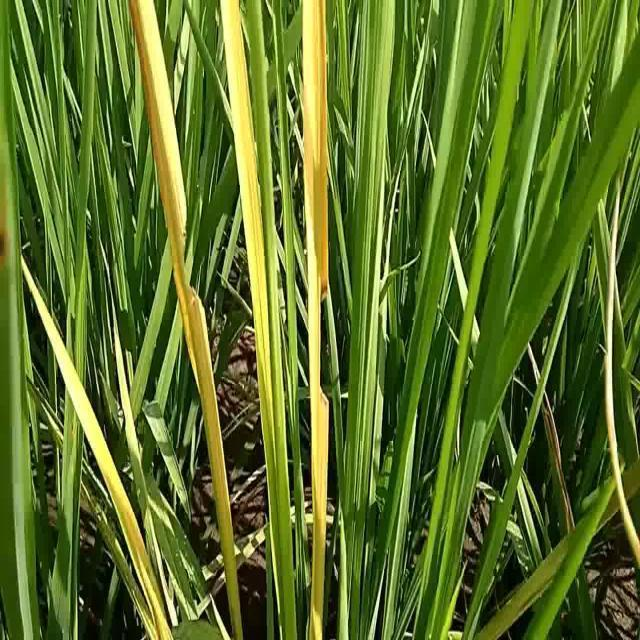Rice Tungro: (19, 254, 170, 639), (124, 1, 236, 504), (220, 1, 293, 536), (294, 1, 345, 529)
